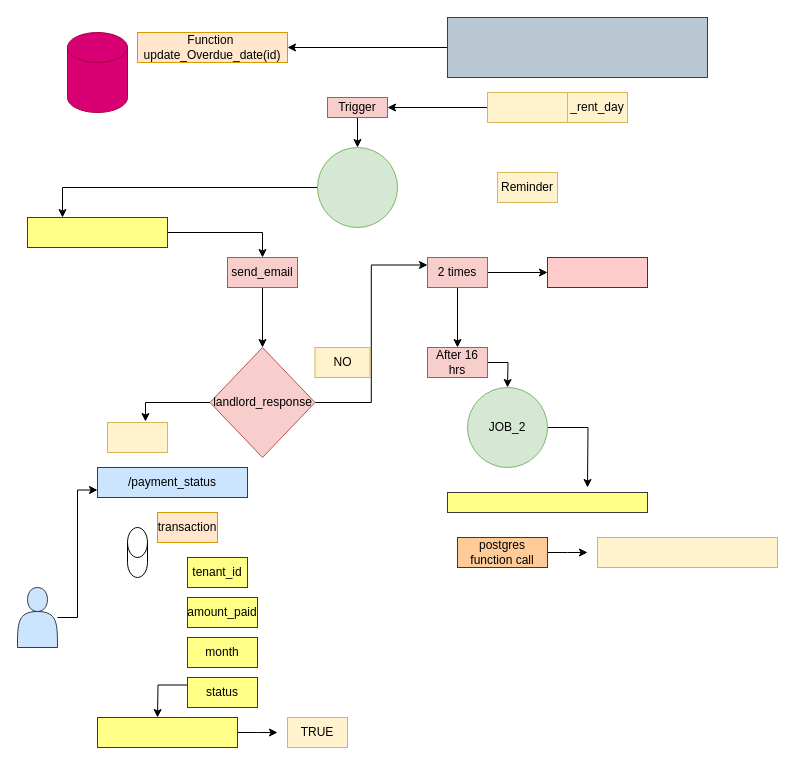
The diagram is 795 pixels wide and 765 high, and some of its shapes have lost their labels. The shapes that lost their labels are listed below. From the top down, each one's box as (x1, y1, x2, y2) in pixels, then its label:
(446, 16, 708, 78): Updates over_due column in tenants_information Where user_tenant_Id = id .
(486, 92, 568, 122): tenant_chosen
(316, 146, 398, 228): JOB_1
(26, 216, 168, 248): get All landlords with tenants due
(546, 256, 648, 288): each_day
(106, 422, 168, 452): Yes
(446, 492, 648, 512): update_Overdue_date(rent_day)
(596, 536, 778, 568): update all_tenant_users where status is false in transaction
(96, 716, 238, 748): set status to paid
